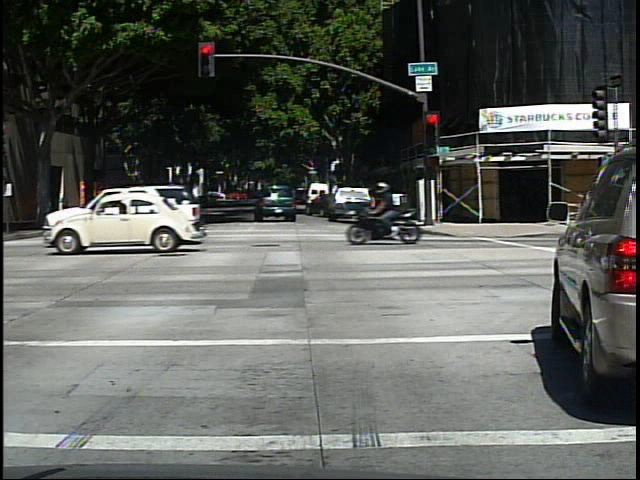person: (384, 177, 423, 238), (60, 190, 72, 225)
